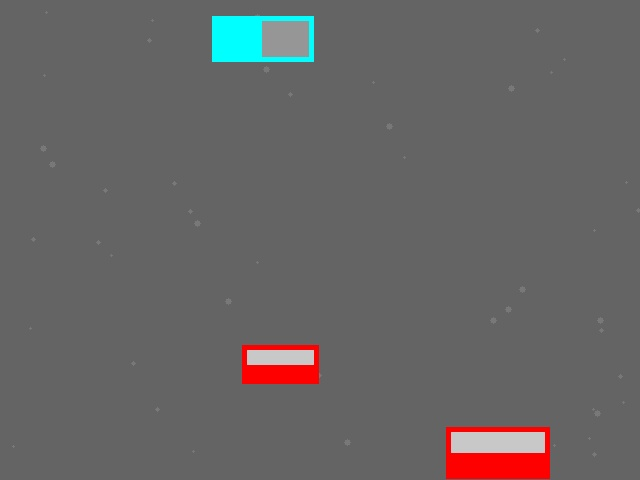car: (446, 427, 549, 478), (242, 345, 318, 383)
truck: (212, 16, 313, 61)
